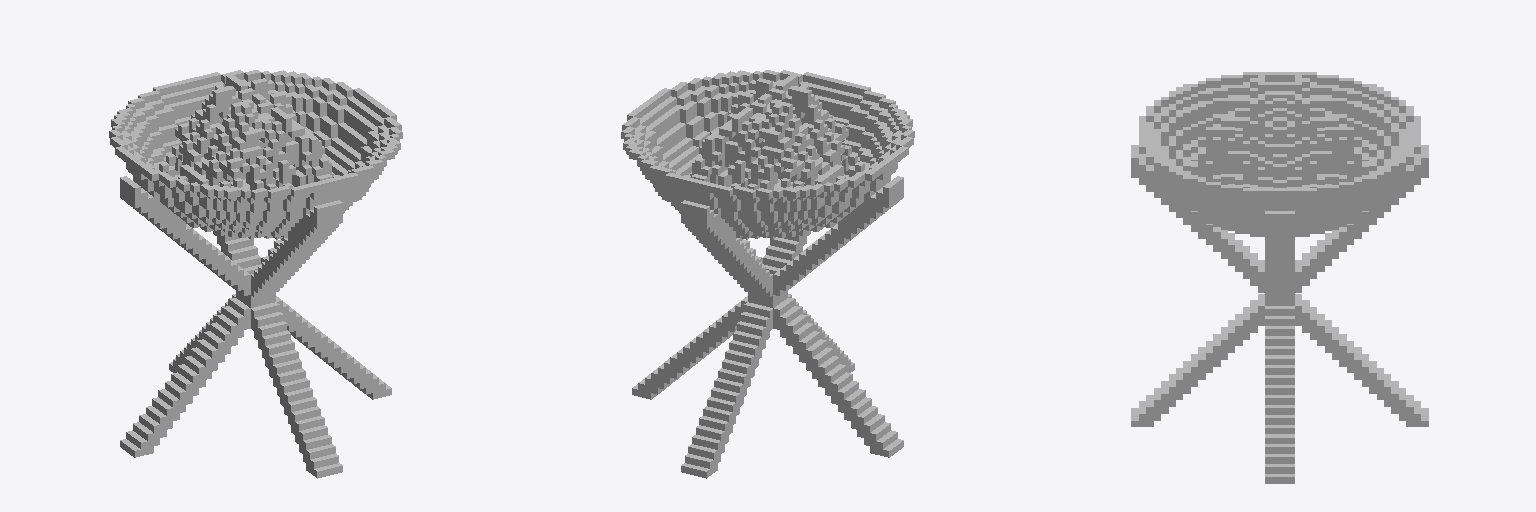
The model's file is torch.obj.
3 renders of one model, left to right at view 1: azimuth 30°, elevation 25°; view 2: azimuth 150°, elevation 25°; view 3: azimuth 270°, elevation 25°, orthographic.
Parts seen in each view (by area): view 1: object 1; view 2: object 1; view 3: object 1.
Part boxes in pixels (bbox=[...]): object 1: bbox=[109, 70, 402, 478]; object 1: bbox=[621, 70, 914, 478]; object 1: bbox=[1131, 72, 1428, 483].
Size of the model in its own units: 4 by 4.9 by 4.